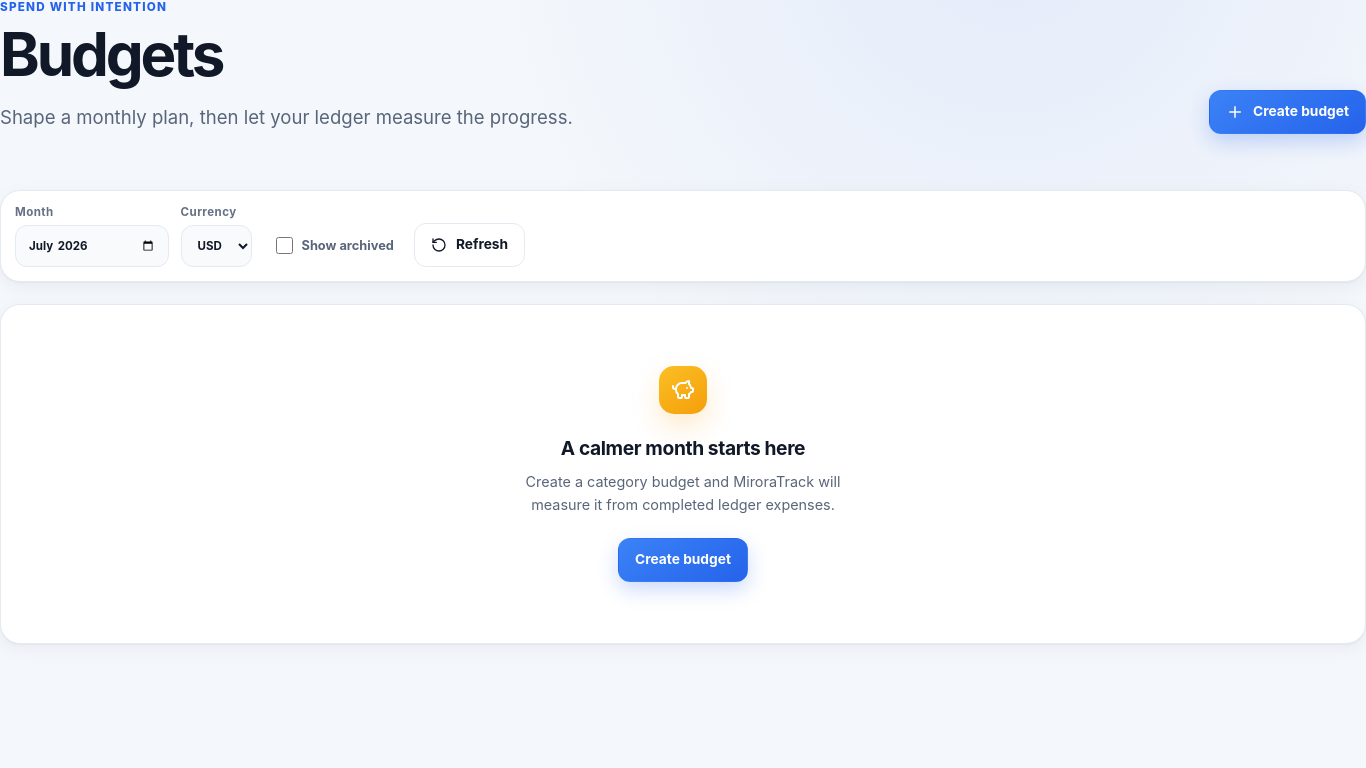
Test: BudgetsPage › shows numeric progress with text health and keeps a failed form intact
expect the heading "A calmer month starts here" is shown: met, box x1=561 y1=436 x2=805 y2=460
Step 1. Click the 1st button "Create budget" → (1288, 112), box x1=1209 y1=90 x2=1365 y2=134
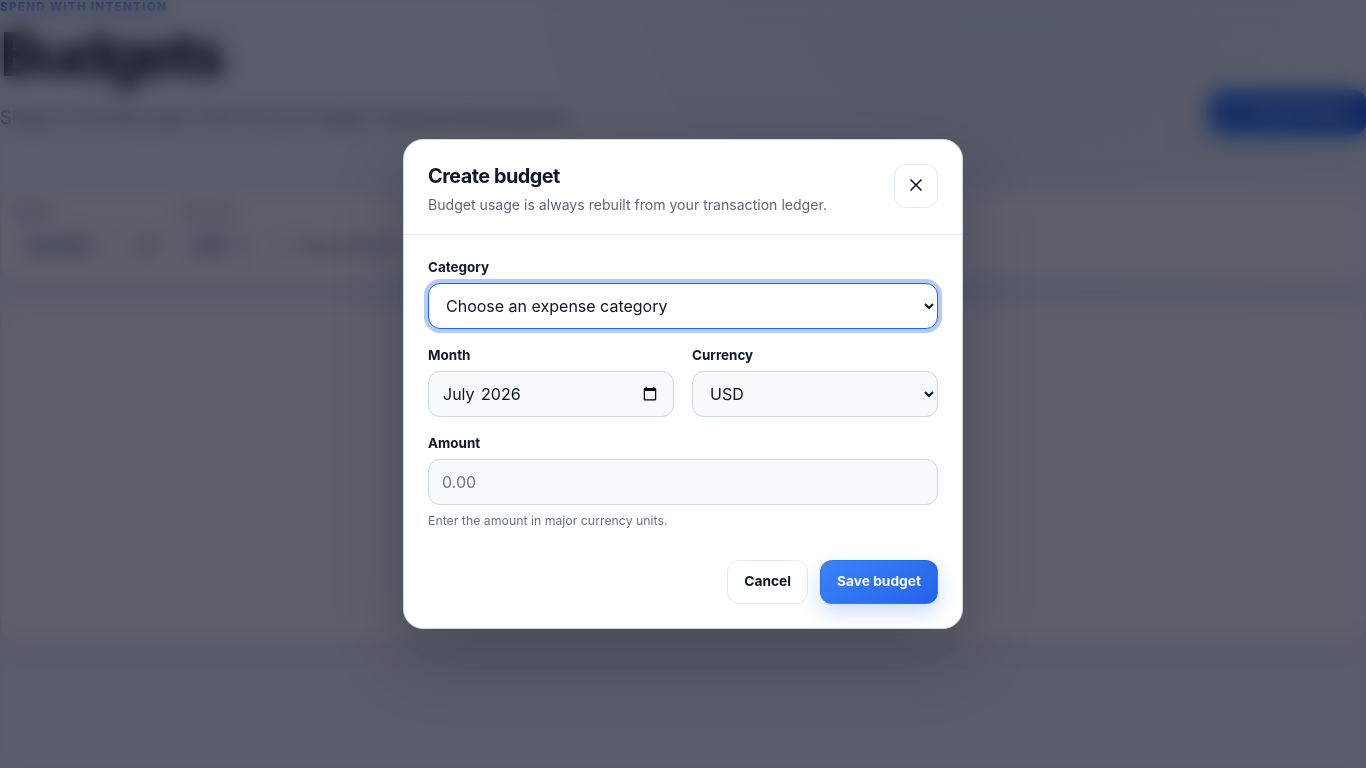
Step 2. Select "Food" in the dropdown labelled "Category" → (683, 306), box x1=428 y1=282 x2=938 y2=328
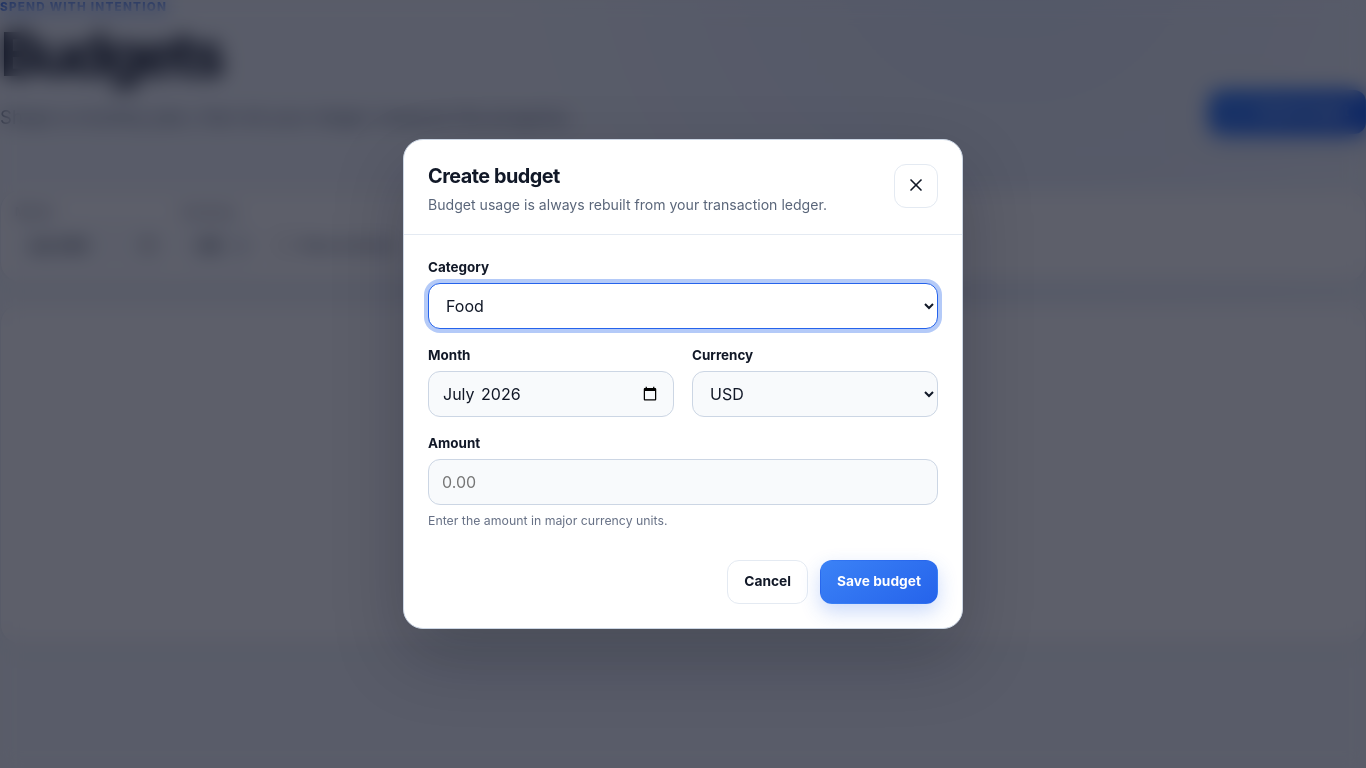
Step 3. Type "500" into the field labelled "Amount" → (683, 482), box x1=428 y1=458 x2=938 y2=504
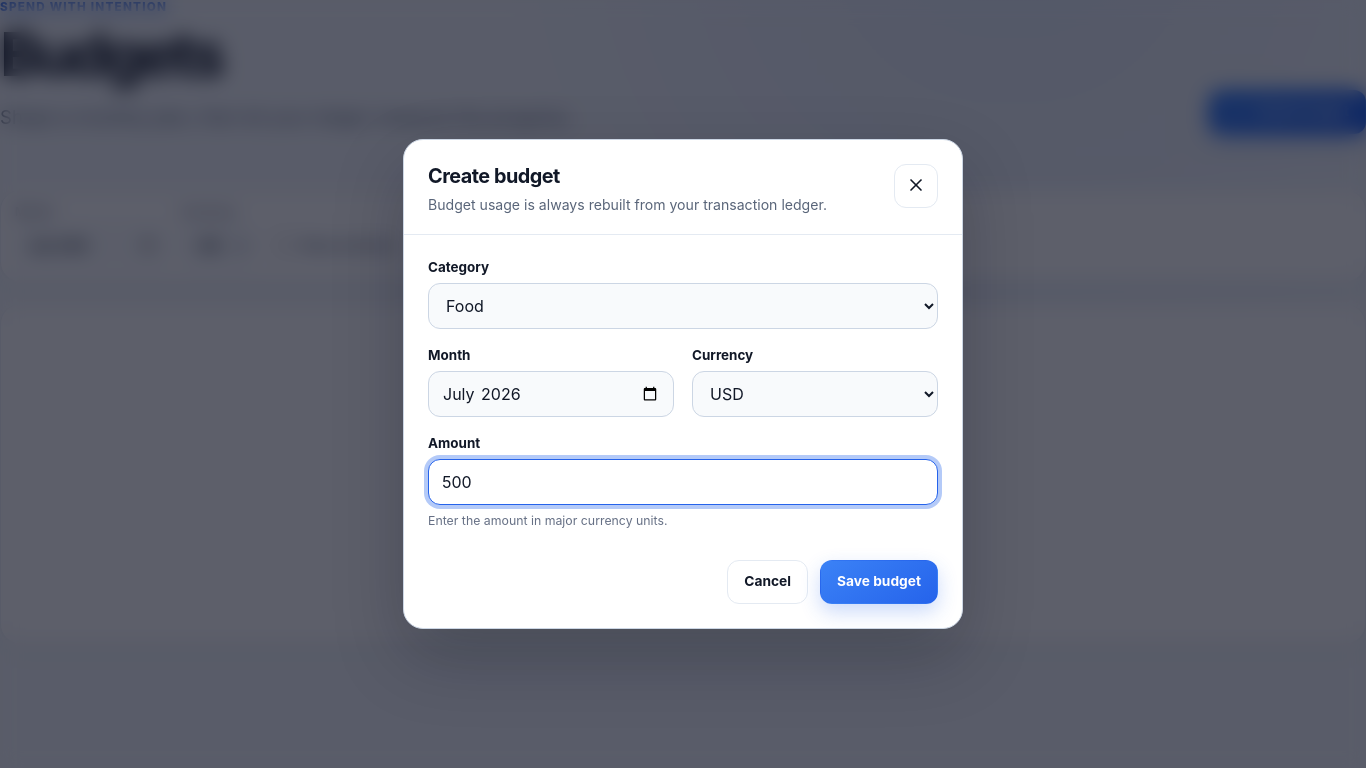
Step 4. Click the button "Save budget" → (879, 582), box x1=820 y1=560 x2=938 y2=604
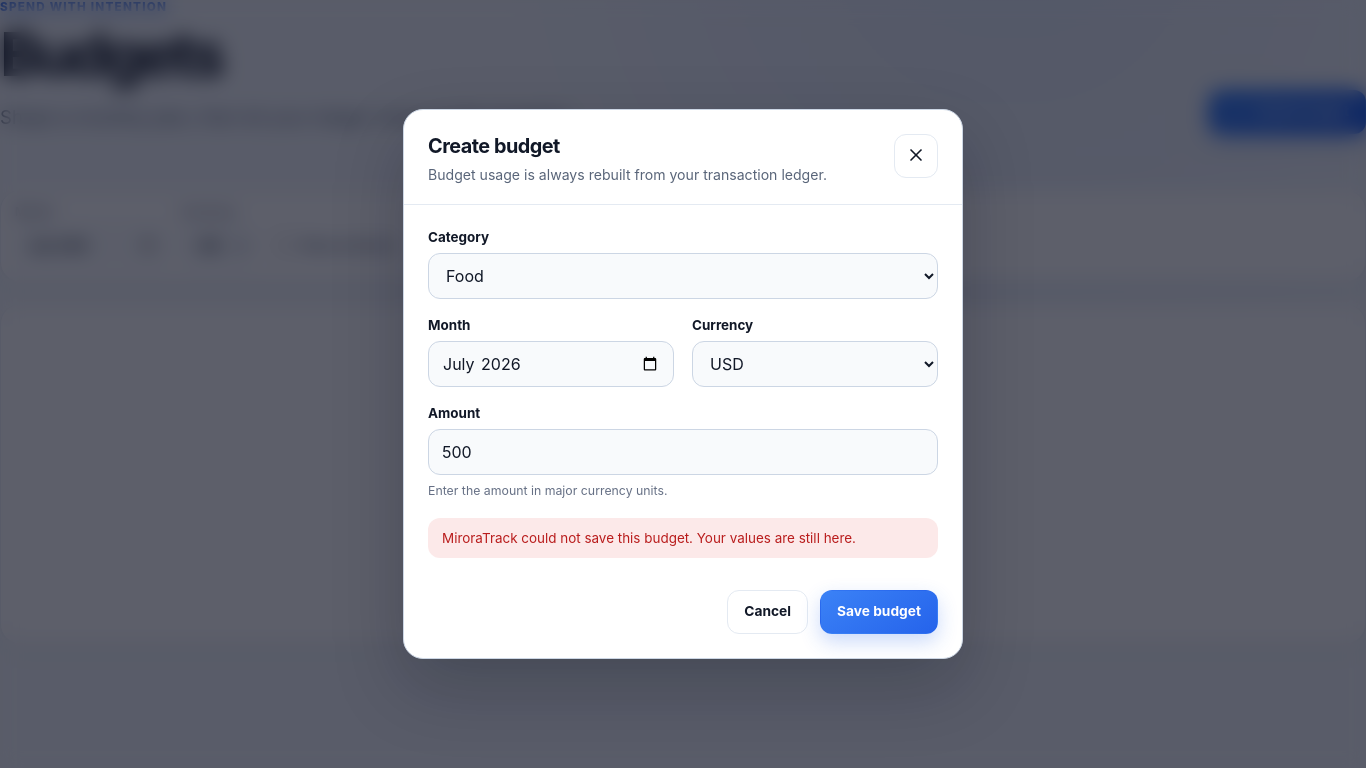
expect the message shows "values are still here": met, box x1=442 y1=530 x2=856 y2=546
